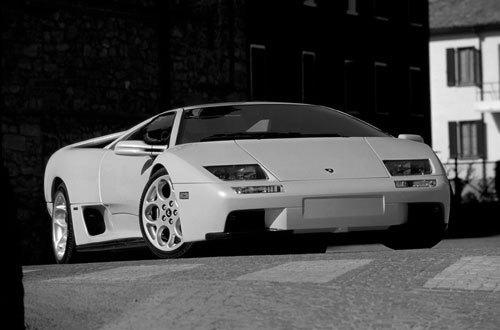car: (18, 79, 480, 304)
